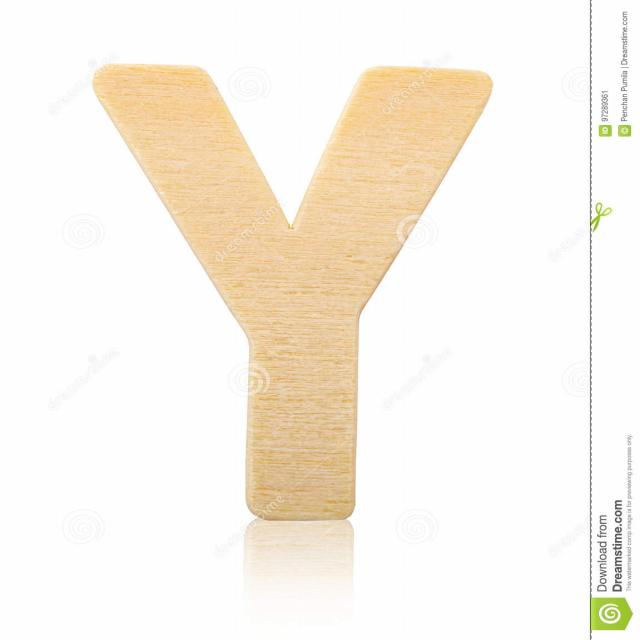Y: (68, 34, 506, 562)
